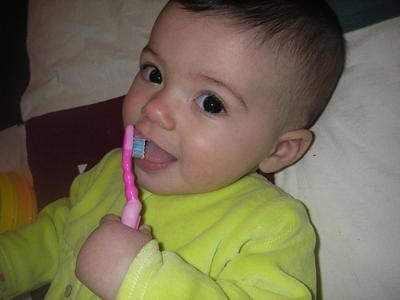person: (2, 1, 348, 300)
